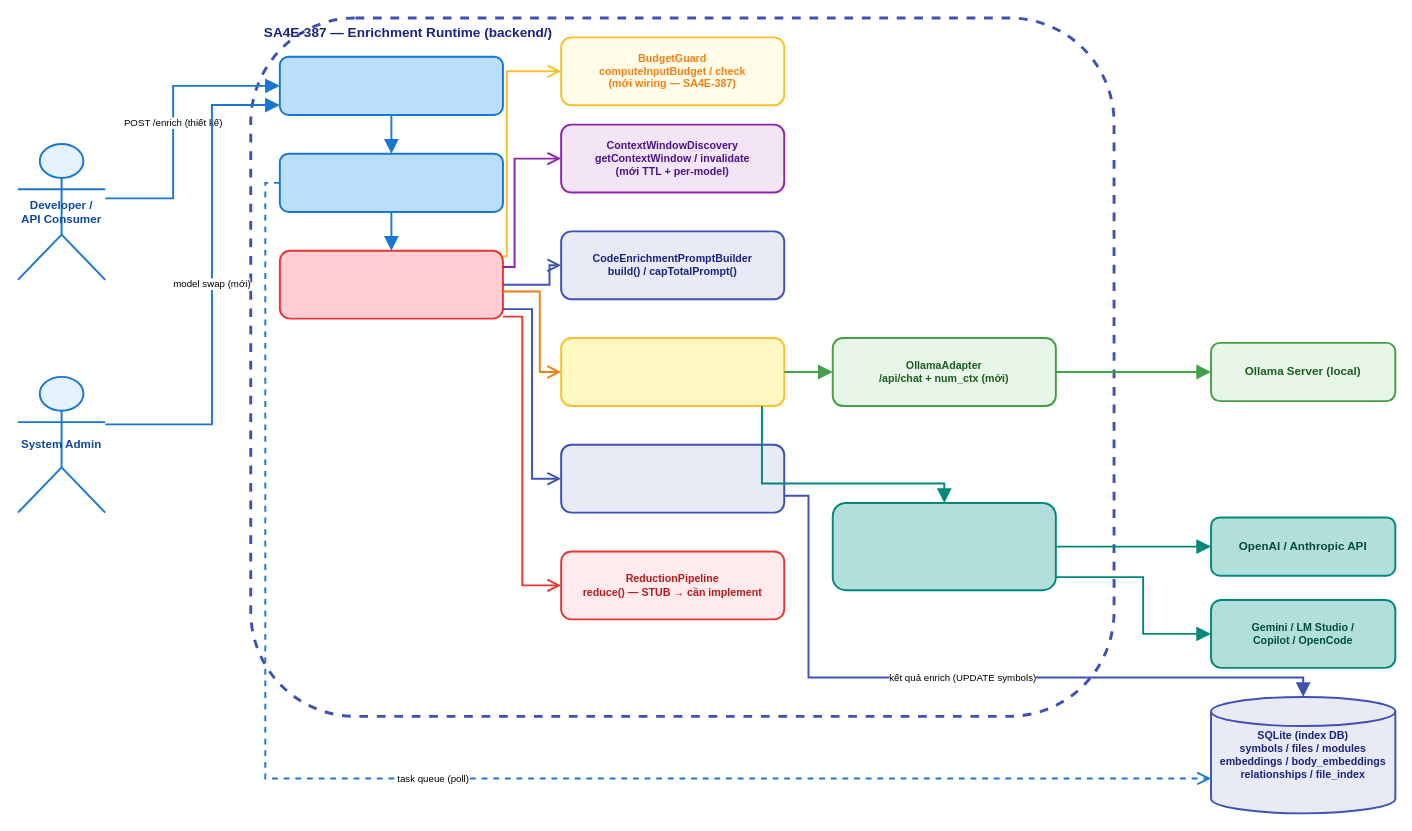
This 1412x831 diagram has some shape labels left out. Here are the shapes that lost their labels. From the top down, the centre of each, then its label:
At (390,85): "HttpRouteRegistrar (Hono) mount /api/v1".
At (390,182): "TaskWorker dispatch CODE_ENRICHMENT".
At (390,284): "CodeEnrichmentHandler enrichSymbol() / callLLMWithTimeout()".
At (672,371): "LLMService complete() — per-call model (mới)".
At (672,478): "enrichment-response-parser + enrichment-result-store parse / store".
At (943,546): "OpenAIAdapter (compat) Anthropic / Gemini / LM Studio / Copilot / OpenCode".
